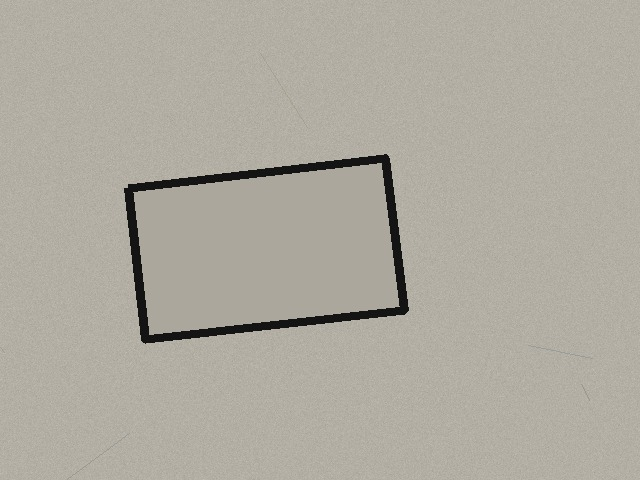parking_area: (128, 158, 404, 339)
